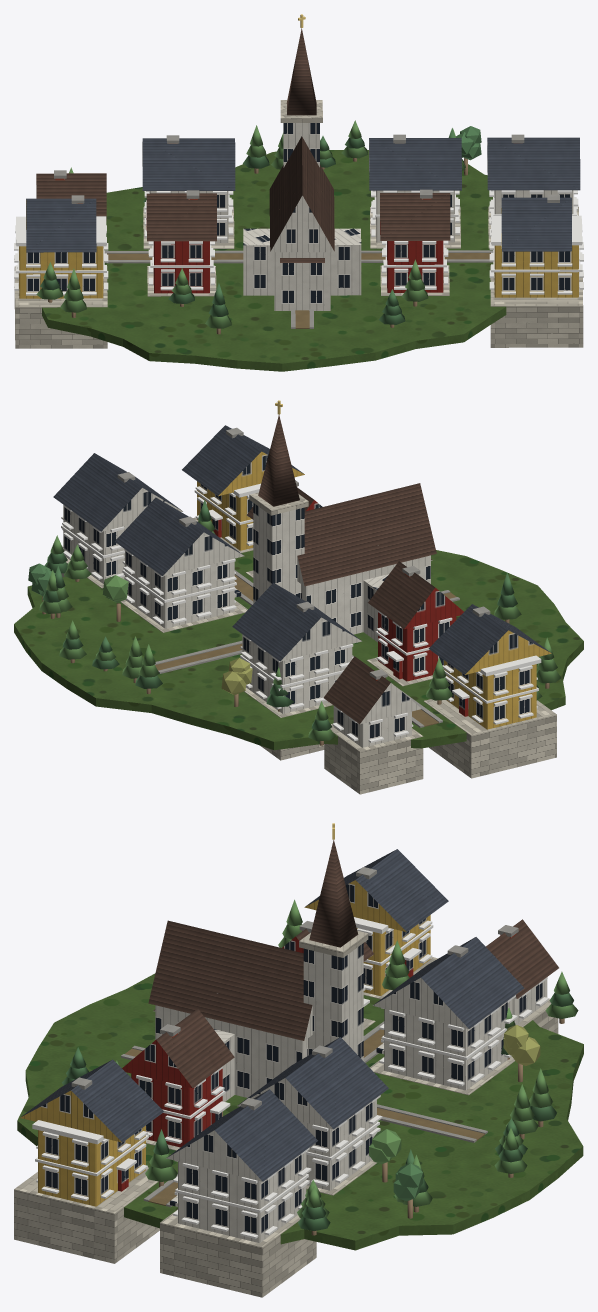
Rendered from city_nordic_town.gltf.
The picture shows the model from 3 angles, top to bottom: view 1: azimuth 30°, elevation 25°; view 2: azimuth 150°, elevation 25°; view 3: azimuth 270°, elevation 25°; orthographic projection. The views are drawn at different scales.
Parts seen in each view (by area): view 1: city_nordic_town; view 2: city_nordic_town; view 3: city_nordic_town.
Boxes of the visible parts, box(x1,y1,x2,y2) form: city_nordic_town: box(14, 14, 583, 371); city_nordic_town: box(14, 400, 583, 794); city_nordic_town: box(14, 823, 583, 1297).
Size of the model in its own units: 2.17 by 1.07 by 1.68.
Materials: 16 (10 with a texture image).
